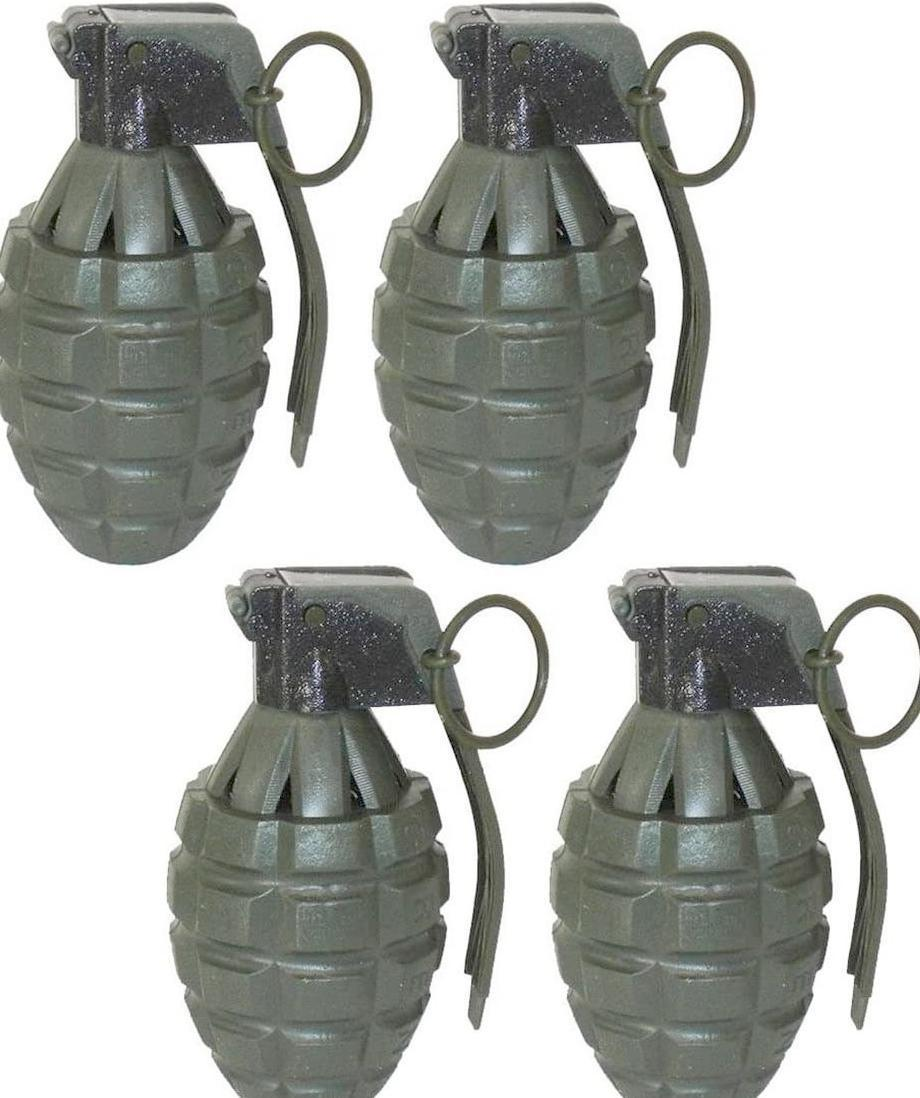Grenade: (372, 0, 759, 567), (0, 2, 375, 567), (164, 564, 550, 1097), (548, 565, 919, 1097)
